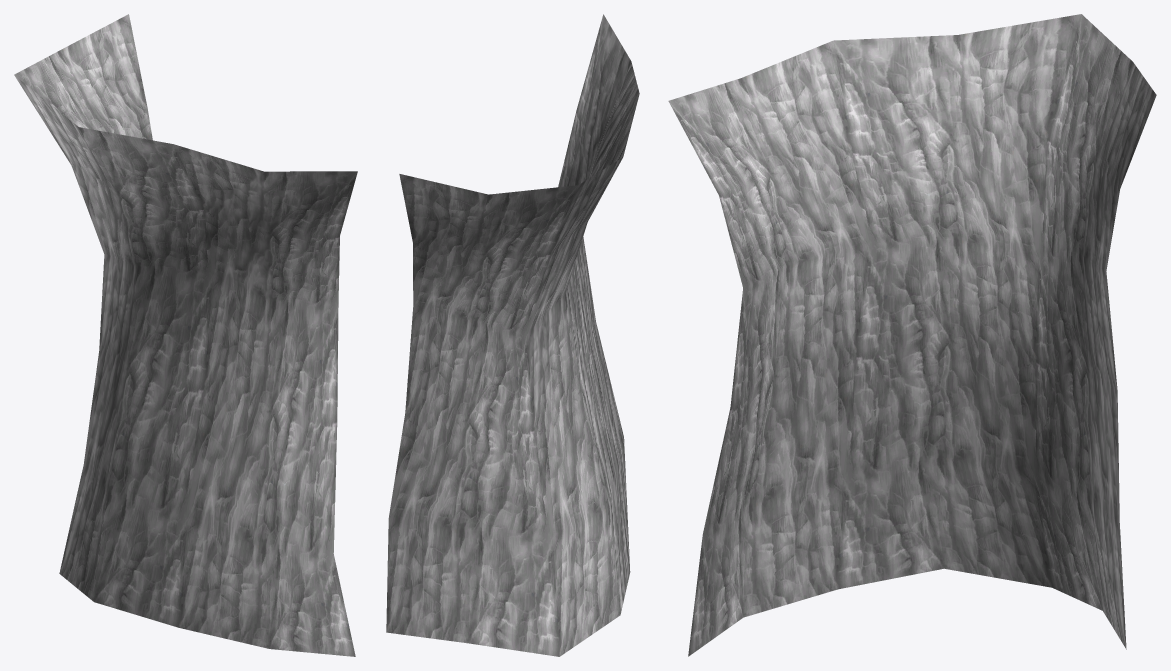
The model's file is SWORDLIGHT20_PS-AREA03_61.fbx.
3 renders of one model, left to right at view 1: azimuth 30°, elevation 25°; view 2: azimuth 150°, elevation 25°; view 3: azimuth 270°, elevation 25°, orthographic. The views are drawn at different scales.
Parts seen in each view (by area): view 1: SWORDLIGHT20_PS-AREA03_61; view 2: SWORDLIGHT20_PS-AREA03_61; view 3: SWORDLIGHT20_PS-AREA03_61.
Part boxes in pixels (bbox=[...]): SWORDLIGHT20_PS-AREA03_61: bbox=[14, 14, 357, 656]; SWORDLIGHT20_PS-AREA03_61: bbox=[386, 14, 639, 656]; SWORDLIGHT20_PS-AREA03_61: bbox=[668, 14, 1156, 656].
Size of the model in its own units: 78106 by 211180 by 168056.
1 material, 1 textured.
